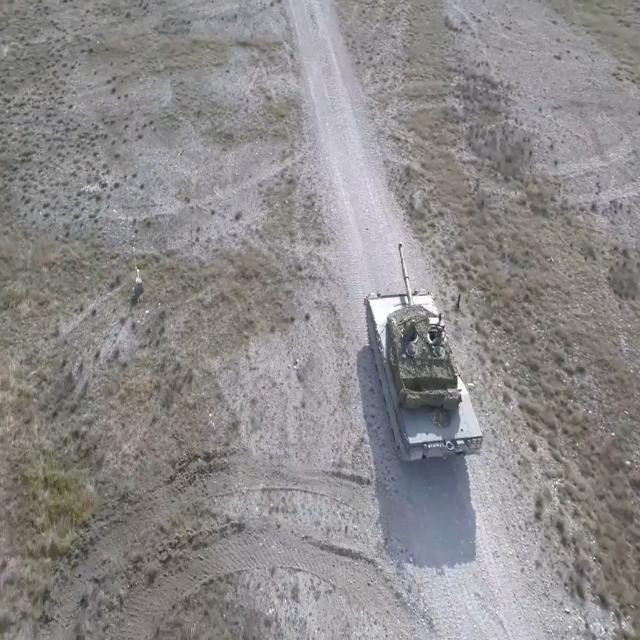tank: (363, 236, 483, 462)
